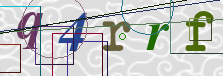4: (57, 11, 87, 52)
f: (184, 9, 216, 52)
q: (16, 11, 43, 49)
r: (101, 19, 132, 52), (145, 23, 170, 51)
